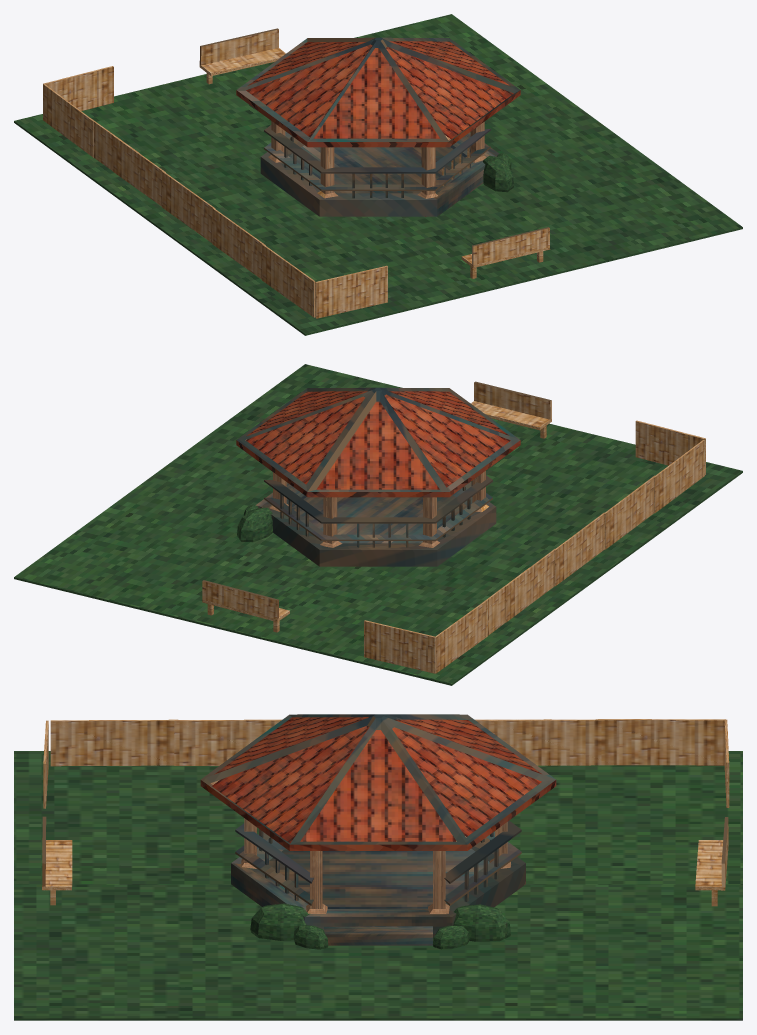
File: Gazebo.fbx
3 renders of one model, top to bottom at view 1: azimuth 30°, elevation 25°; view 2: azimuth 150°, elevation 25°; view 3: azimuth 270°, elevation 25°, orthographic. The views are drawn at different scales.
Parts seen in each view (by area): view 1: Grass Ground, gazebo, bamboo woods, Chair, Chair.001, grass; view 2: Grass Ground, gazebo, bamboo woods, Chair.001, Chair, grass; view 3: Grass Ground, gazebo, bamboo woods, grass, Chair, Chair.001.
Part boxes in pixels (x1=…): Grass Ground: x1=14, y1=14, x2=742, y2=335; gazebo: x1=236, y1=37, x2=520, y2=216; bamboo woods: x1=43, y1=66, x2=387, y2=318; Chair: x1=199, y1=28, x2=285, y2=84; Chair.001: x1=461, y1=227, x2=550, y2=278; grass: x1=483, y1=153, x2=513, y2=192; Grass Ground: x1=14, y1=364, x2=742, y2=685; gazebo: x1=236, y1=387, x2=520, y2=566; bamboo woods: x1=364, y1=420, x2=705, y2=673; Chair.001: x1=471, y1=381, x2=551, y2=438; Chair: x1=202, y1=580, x2=289, y2=632; grass: x1=237, y1=504, x2=272, y2=542; Grass Ground: x1=14, y1=751, x2=742, y2=1020; gazebo: x1=200, y1=714, x2=556, y2=945; bamboo woods: x1=43, y1=719, x2=729, y2=808; grass: x1=250, y1=903, x2=510, y2=949; Chair: x1=695, y1=817, x2=728, y2=906; Chair.001: x1=42, y1=816, x2=72, y2=905.
Size of the model in its own units: 6722 by 2012 by 7744.
9 materials, 9 textured.
